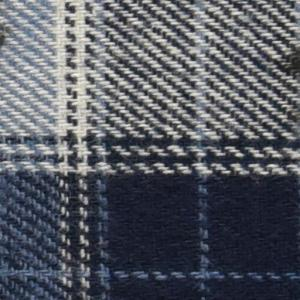Stain: (278, 45, 300, 84), (1, 19, 21, 50)
